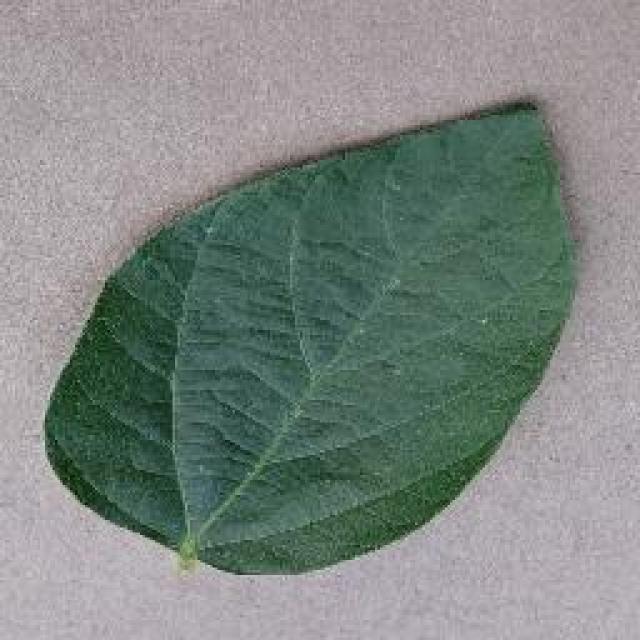Soy_healthy: (88, 131, 534, 532)
